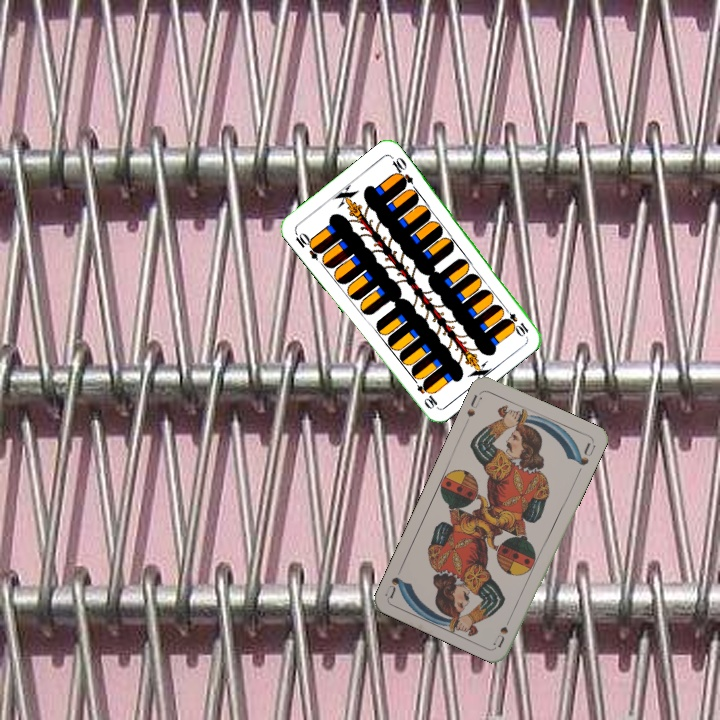E10: (291, 227, 324, 262), (499, 303, 532, 337)
SU: (489, 610, 515, 649), (462, 390, 485, 427)
